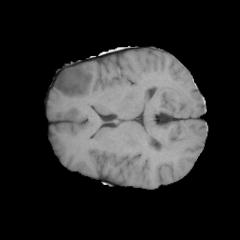glioma: (54, 65, 92, 98)
